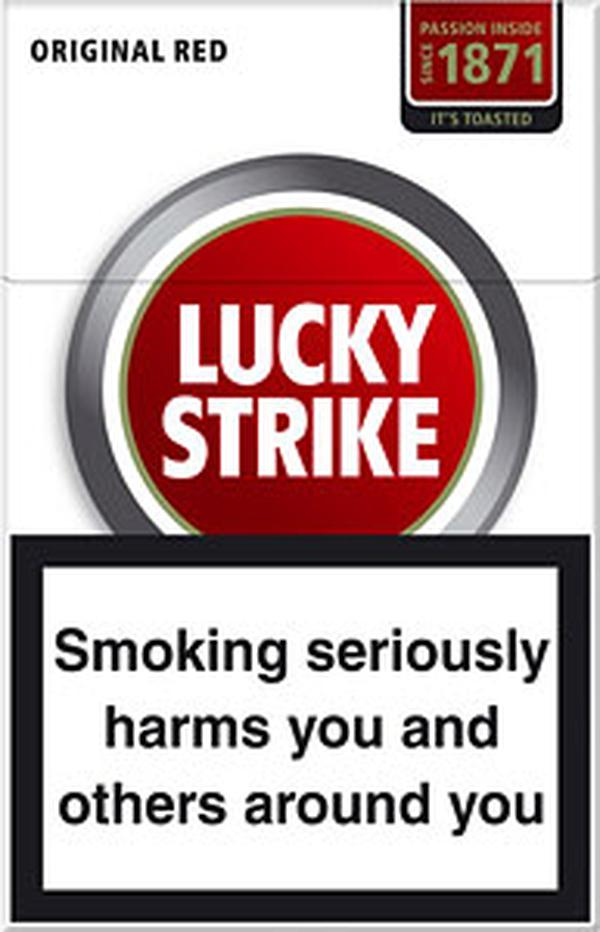lucky_strike_red: (6, 4, 595, 928)
